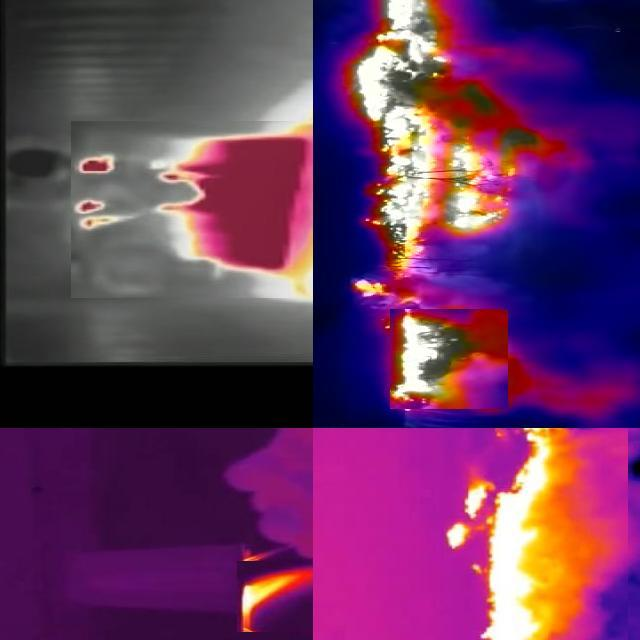fire: (351, 1, 539, 298), (72, 121, 314, 298), (445, 429, 629, 640), (391, 309, 509, 409), (238, 561, 314, 632)
